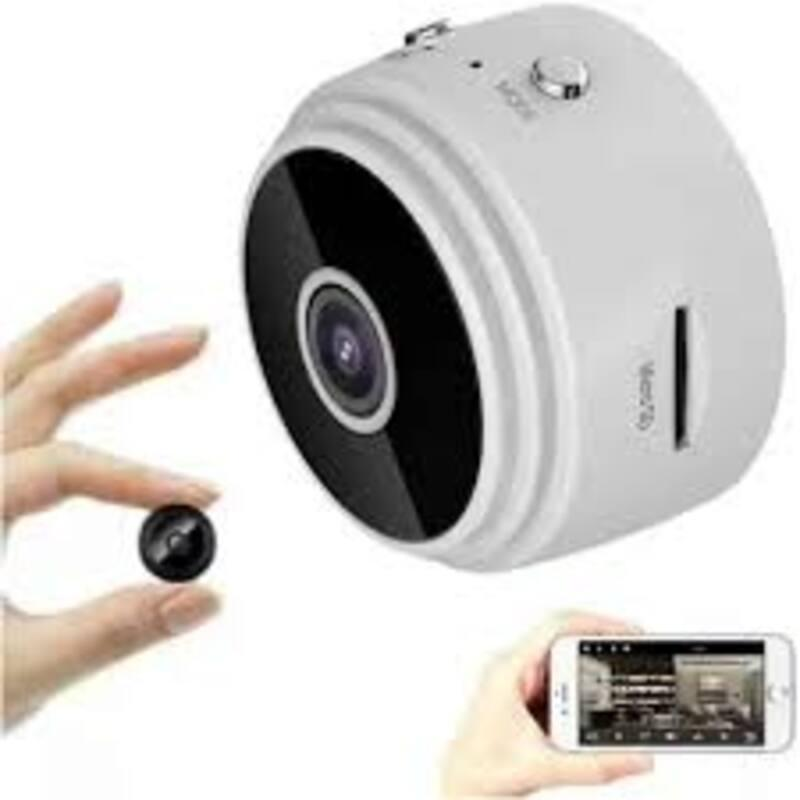dome: (213, 10, 798, 586)
